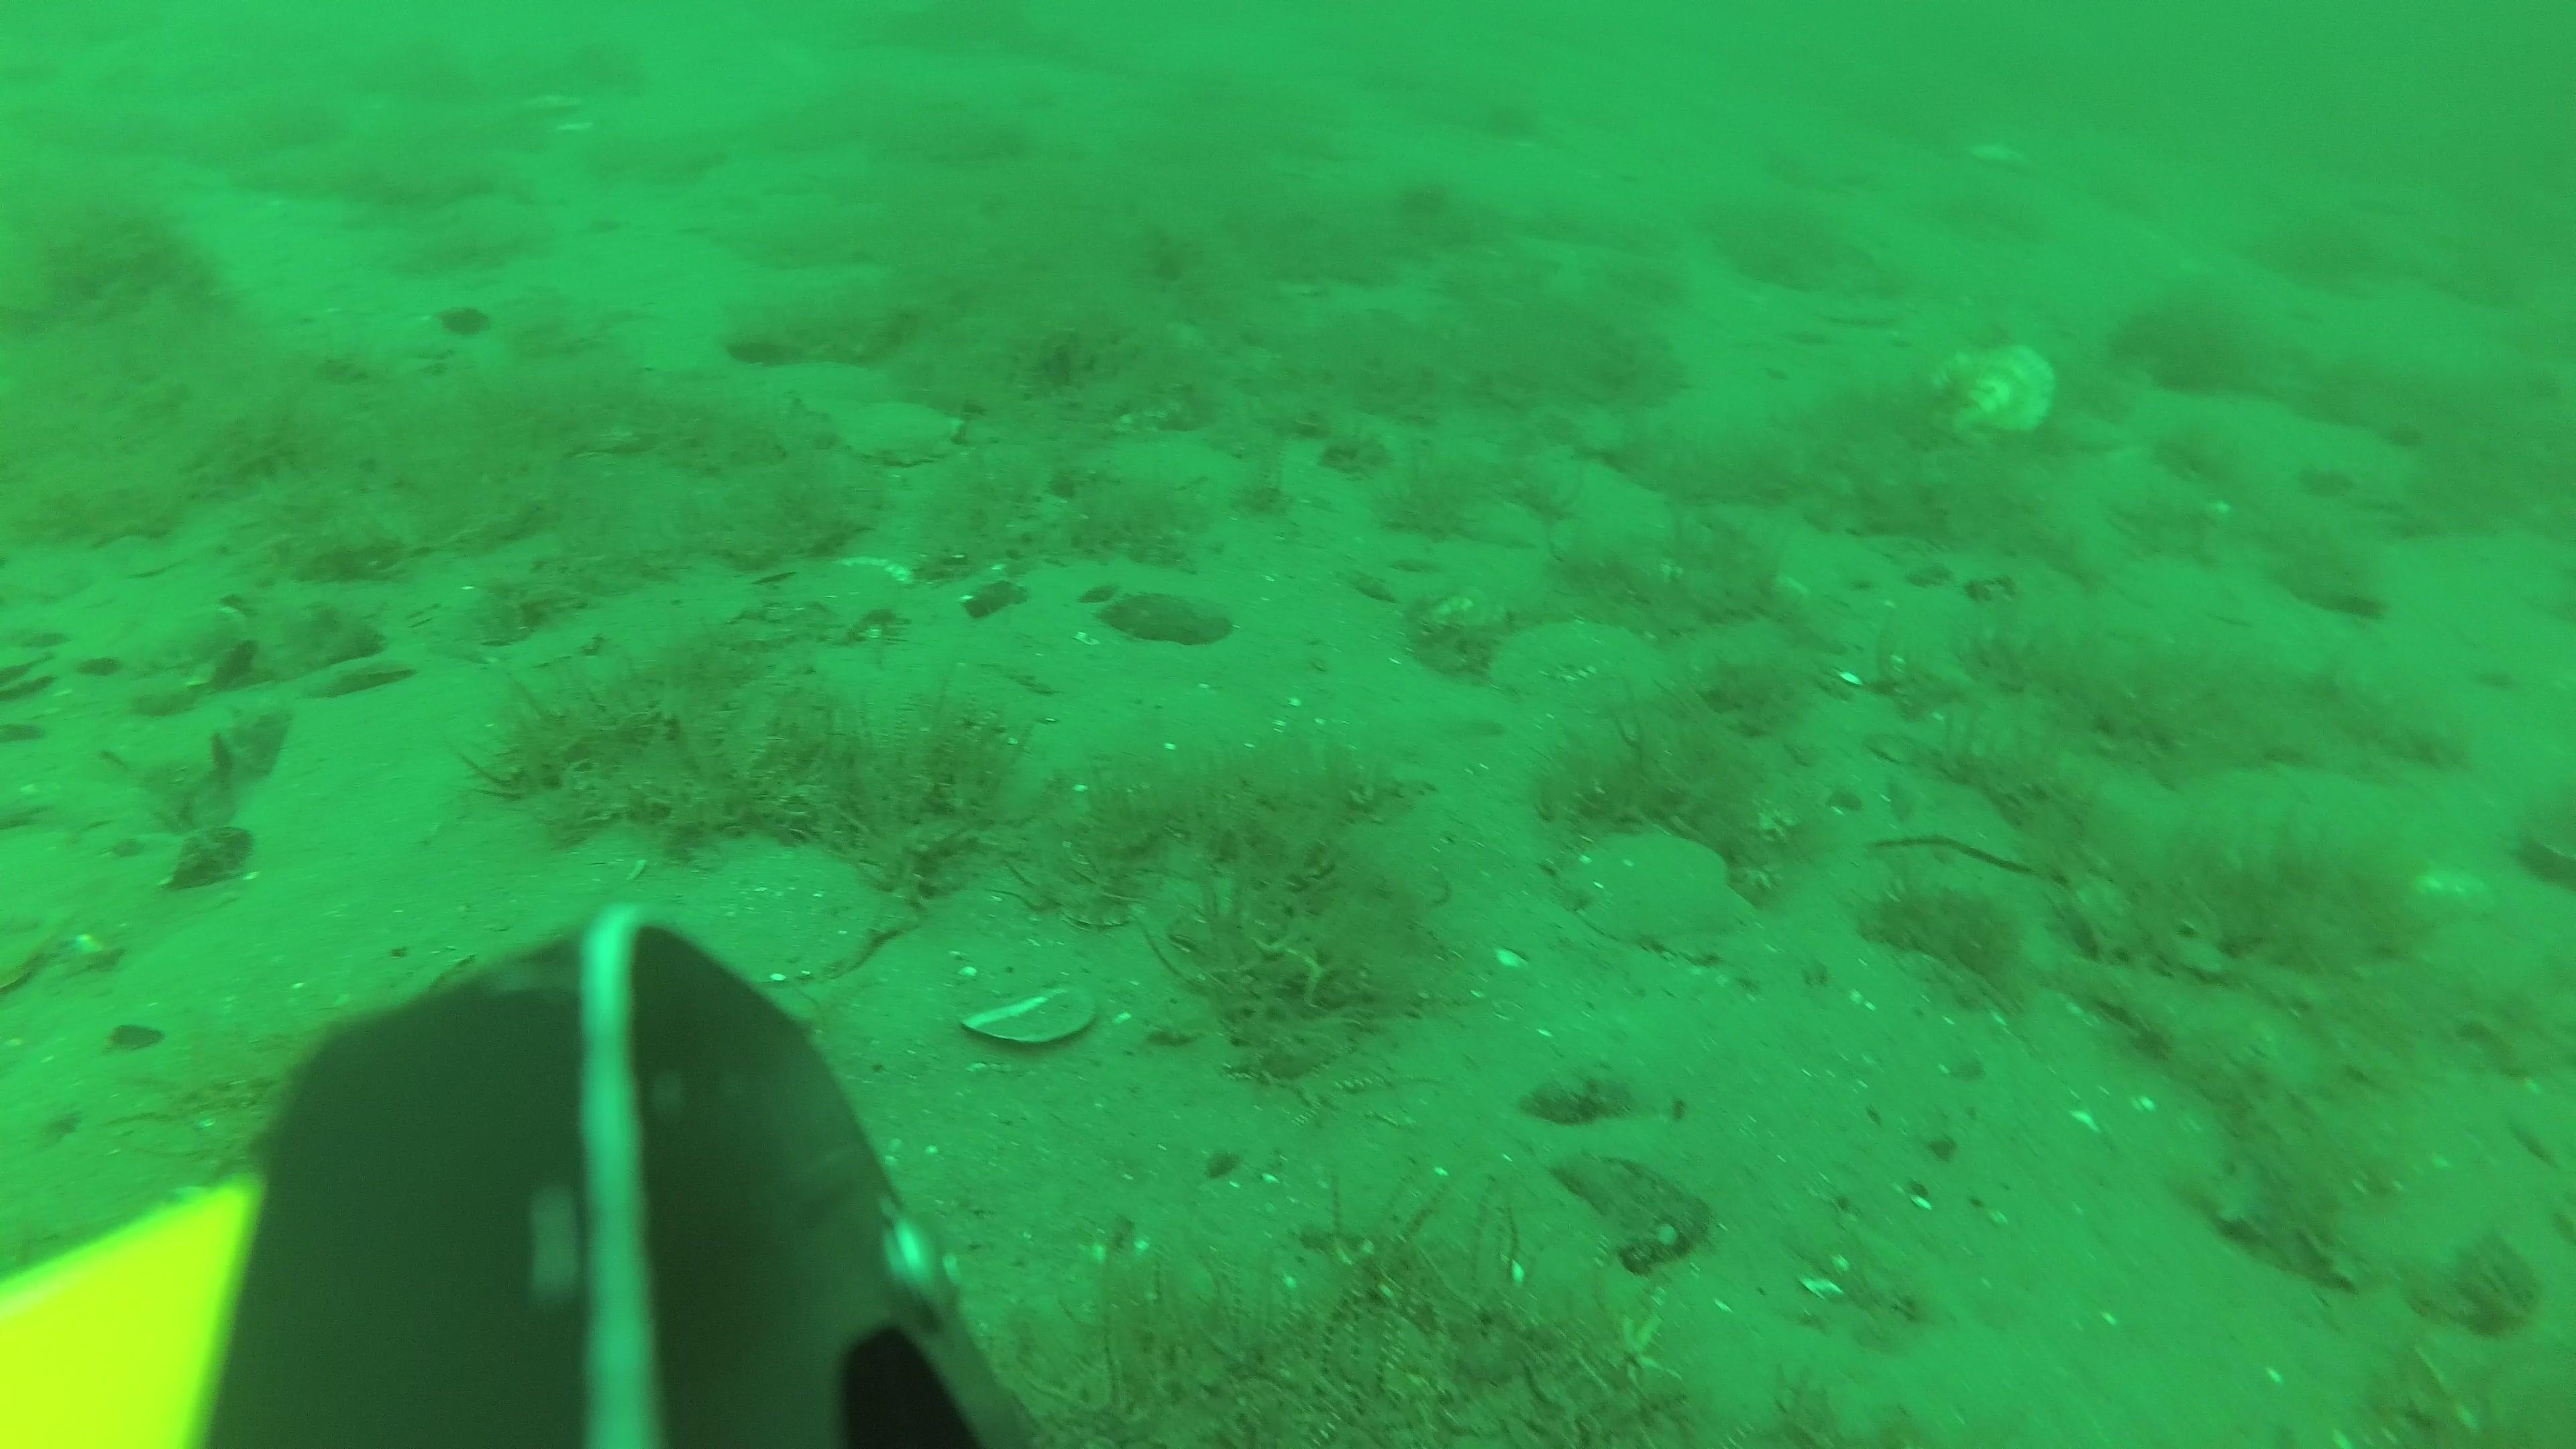scallop: (679, 842, 924, 977), (1571, 832, 1755, 947), (1925, 343, 2051, 441), (837, 398, 964, 467), (1978, 138, 2033, 166)
